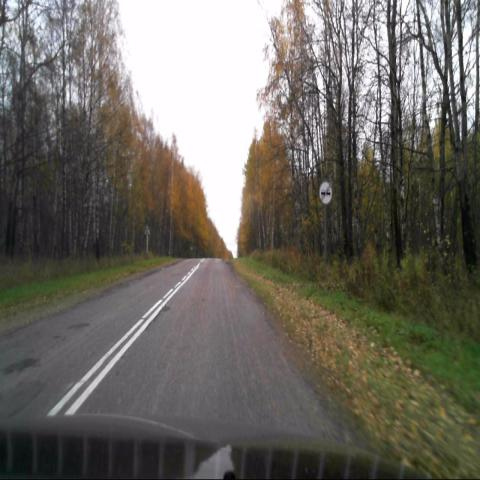3_21: (318, 181, 332, 205)
